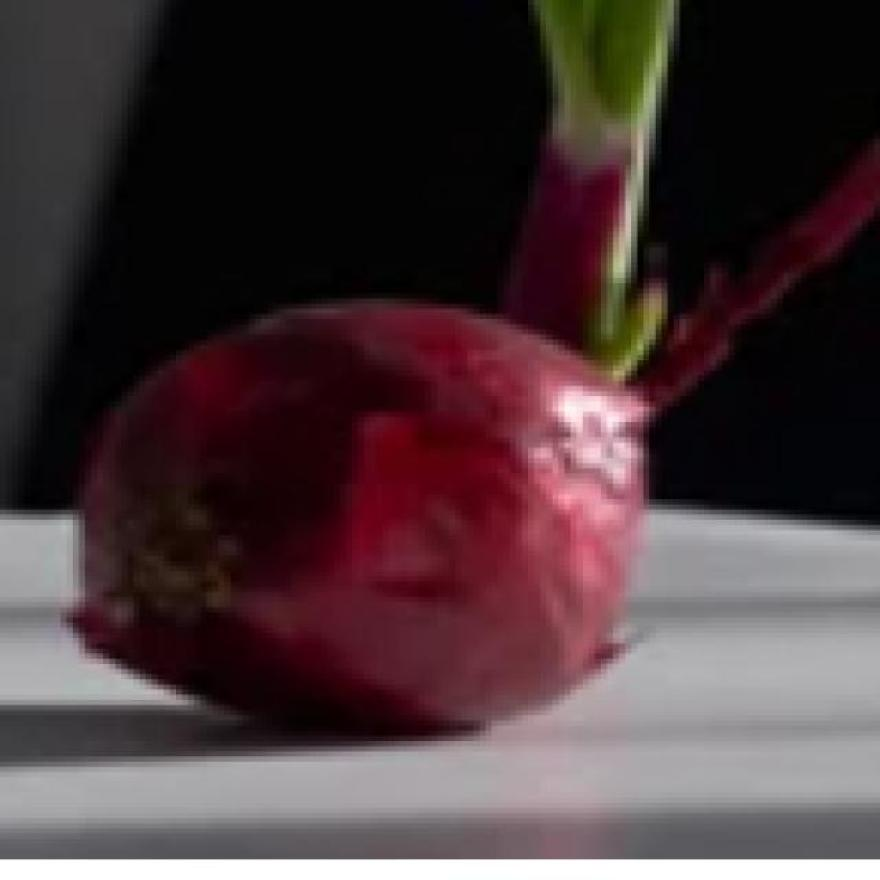Sprouted: (515, 5, 794, 397)
